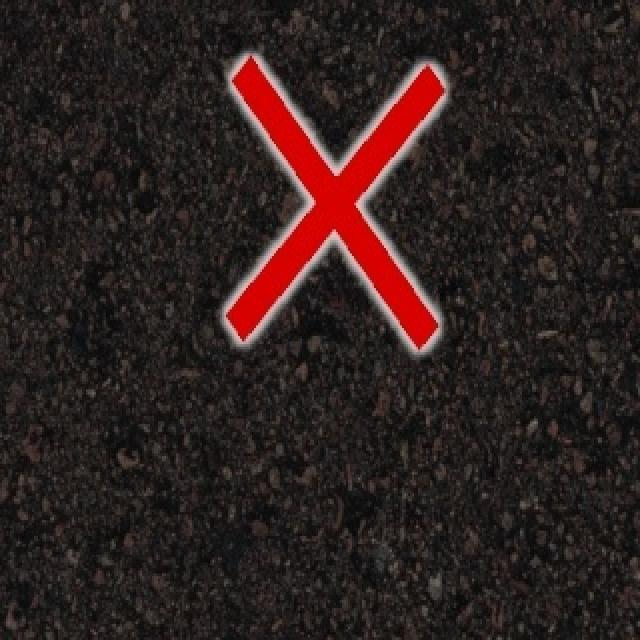x_marker: (225, 57, 443, 348)
